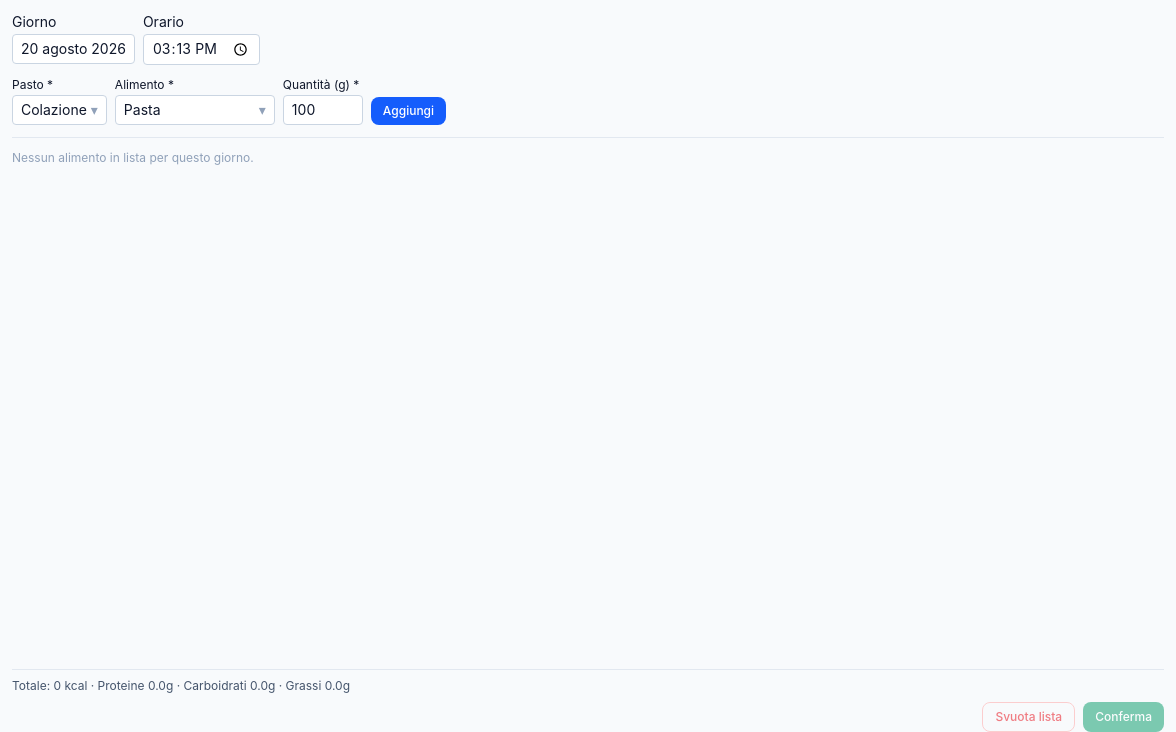
Test case: RegistraPastoPanel › RegistraPastoPanel_aggiungiDueVolteStessaCombinazione_mostraErroreDiDuplicatoSenzaAggiungereDiNuovo
Check: the button named "Pasto *" is shown, box 12,95 -> 107,125
Click the button "Aggiungi".
click(408, 111)  # box 371,97 -> 446,125
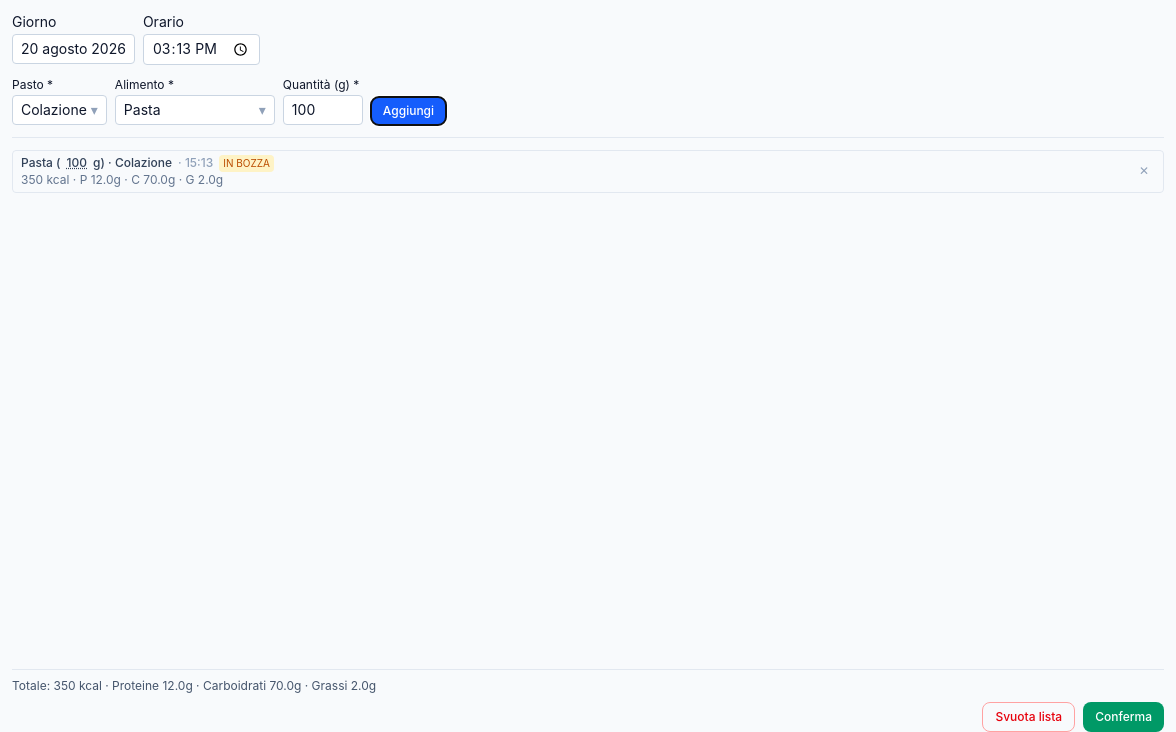
Click the button "Aggiungi".
click(408, 111)  # box 371,97 -> 446,125
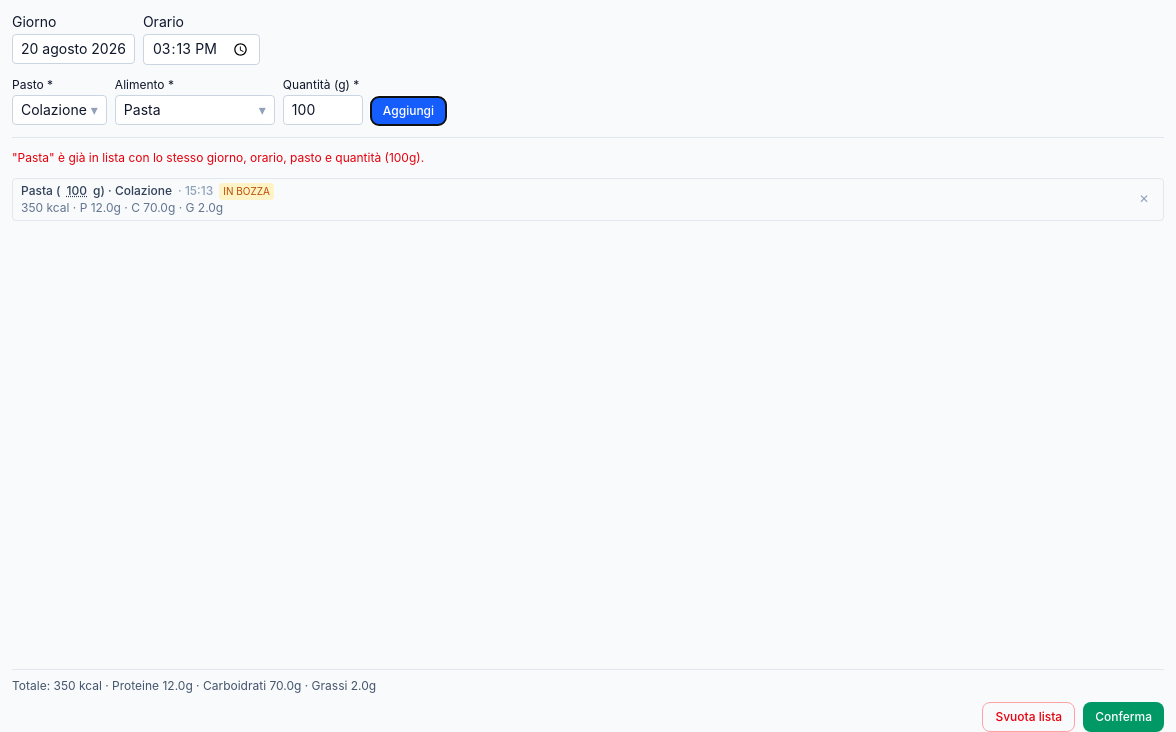
Check: the text "in bozza" is shown once, box 219,183 -> 274,200
Check: the text "è già in lista" is shown, box 12,150 -> 424,165
